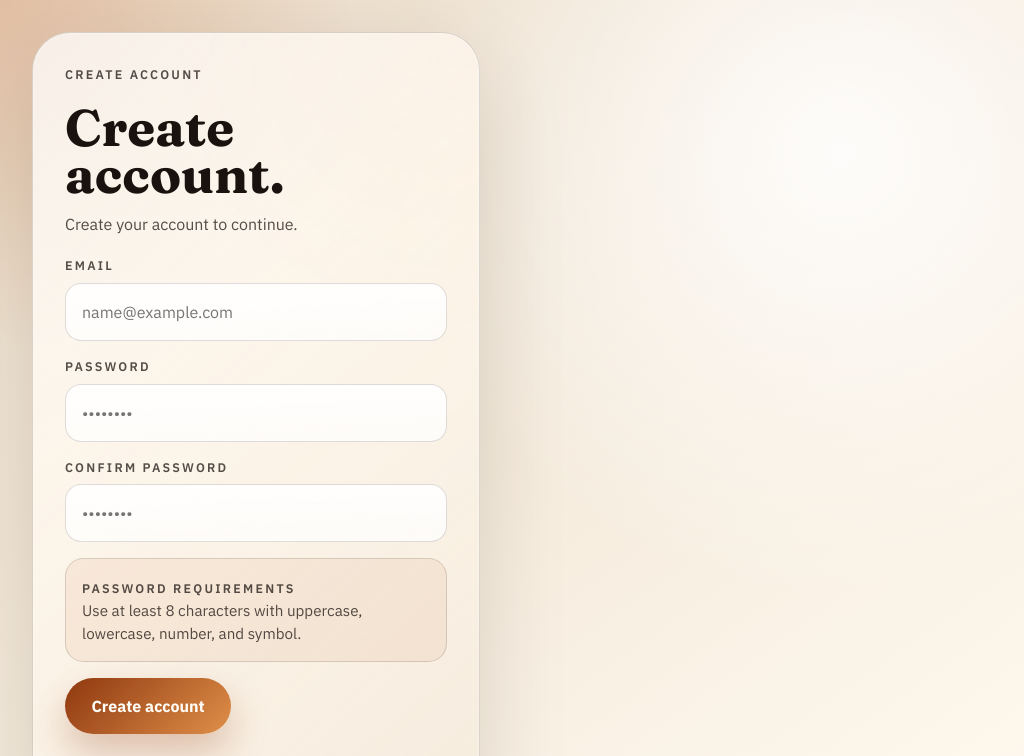
Test: auth feature › auth register transitions into the dashboard
The image size is (1024, 756).
Expected: the button "Create account" is shown, left=65, top=678, right=231, bottom=734
Type "register@example.com" into the field labelled "Email".
click(256, 312); type("register@example.com")  # box left=65, top=283, right=447, bottom=341
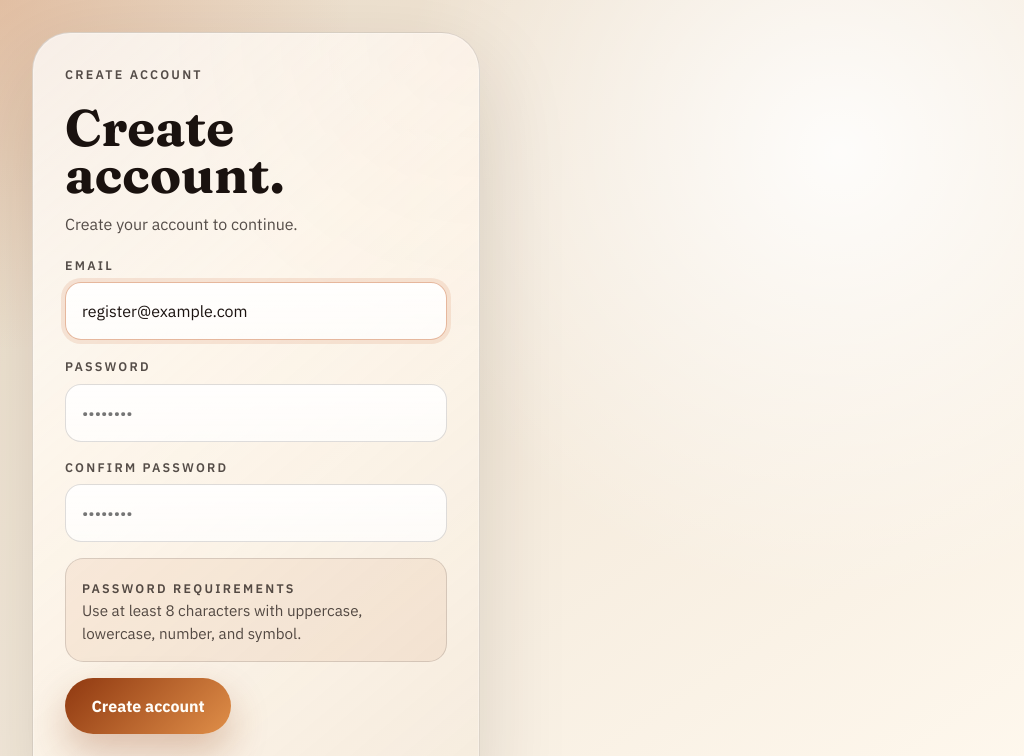
Type "Harness1!" into the password field labelled "Password".
click(256, 413); type("Harness1!")  # box left=65, top=384, right=447, bottom=442
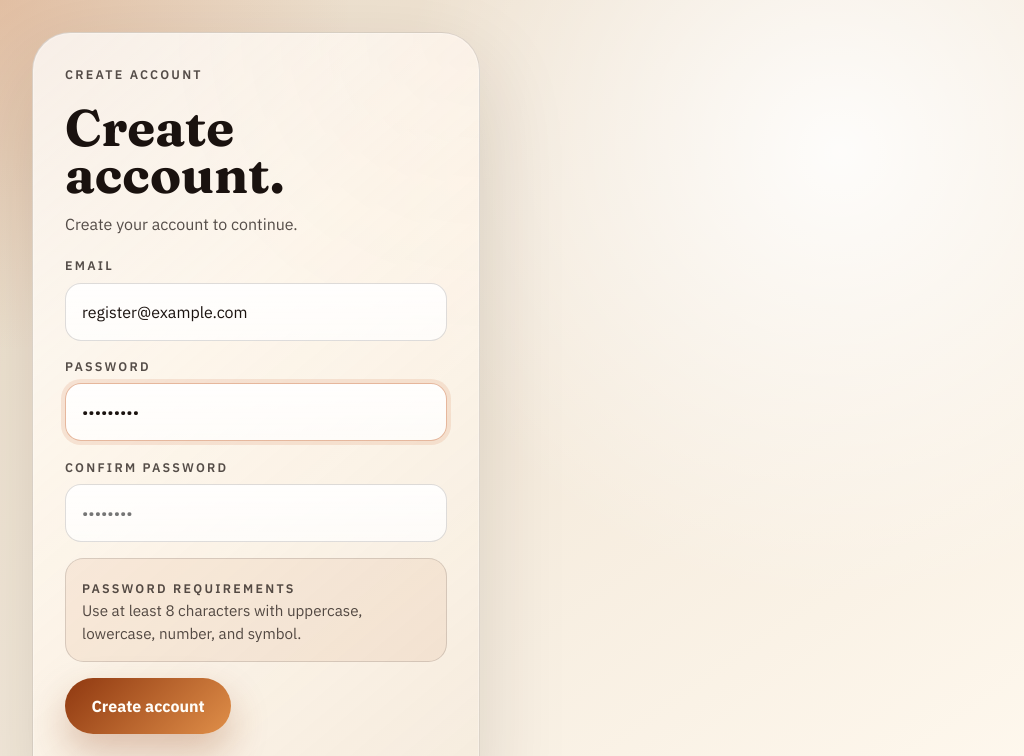
Type "Harness1!" into the password field labelled "Confirm password".
click(256, 514); type("Harness1!")  # box left=65, top=484, right=447, bottom=542
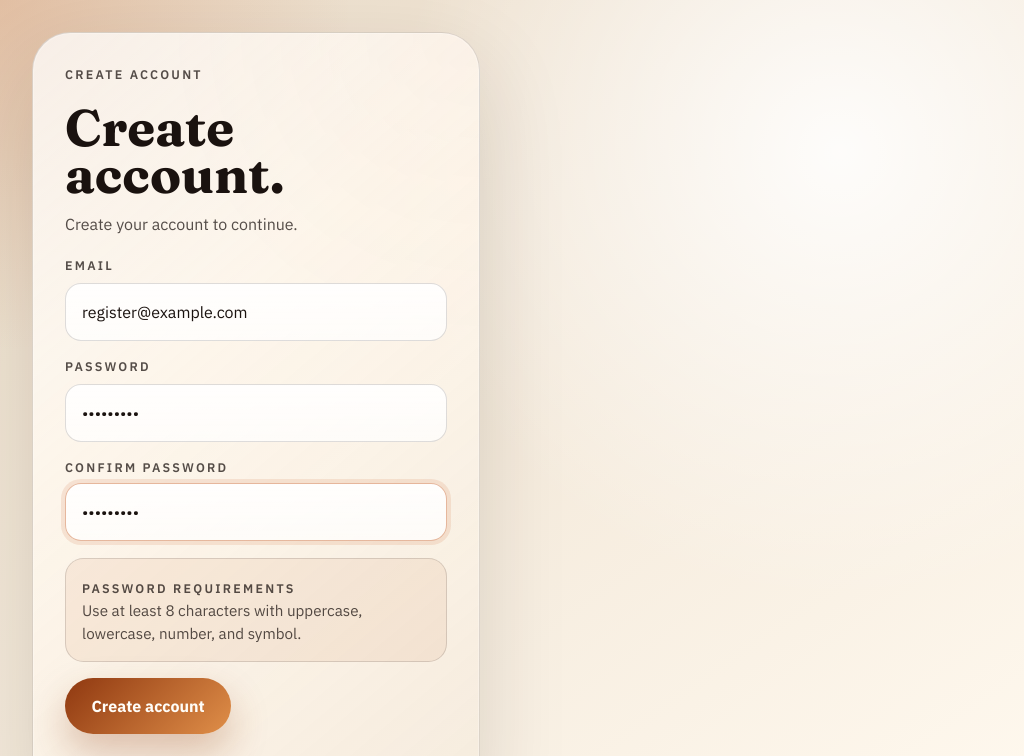
Click the button "Create account".
click(148, 706)  # box left=65, top=678, right=231, bottom=734
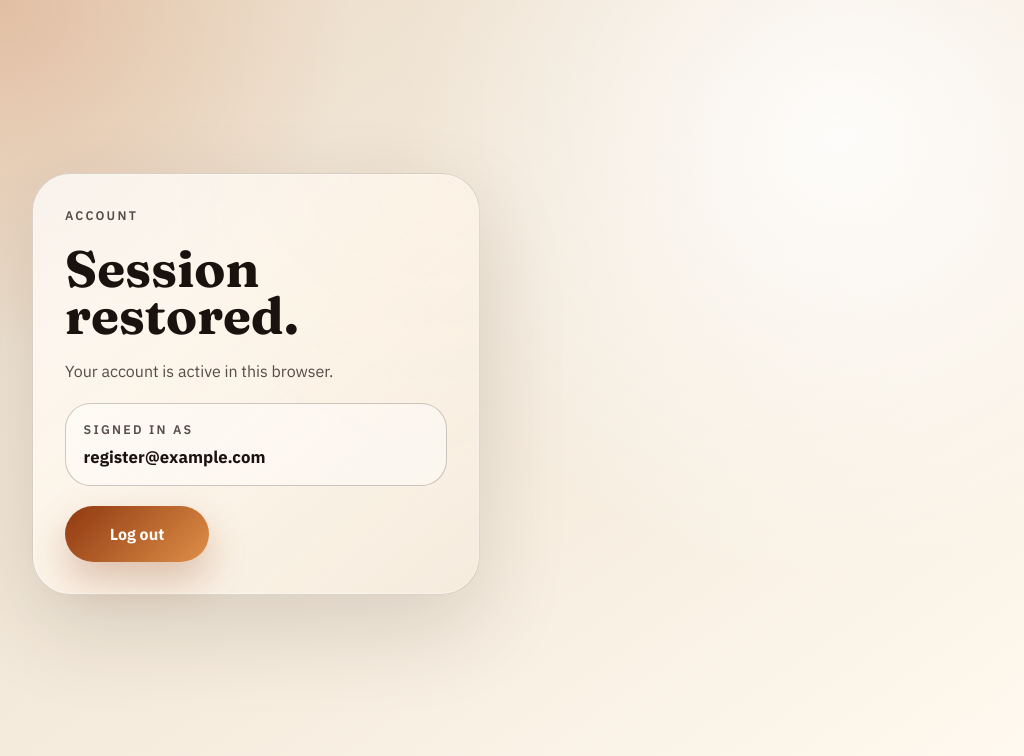
Expected: the heading "Session restored." is shown, left=65, top=236, right=299, bottom=347
